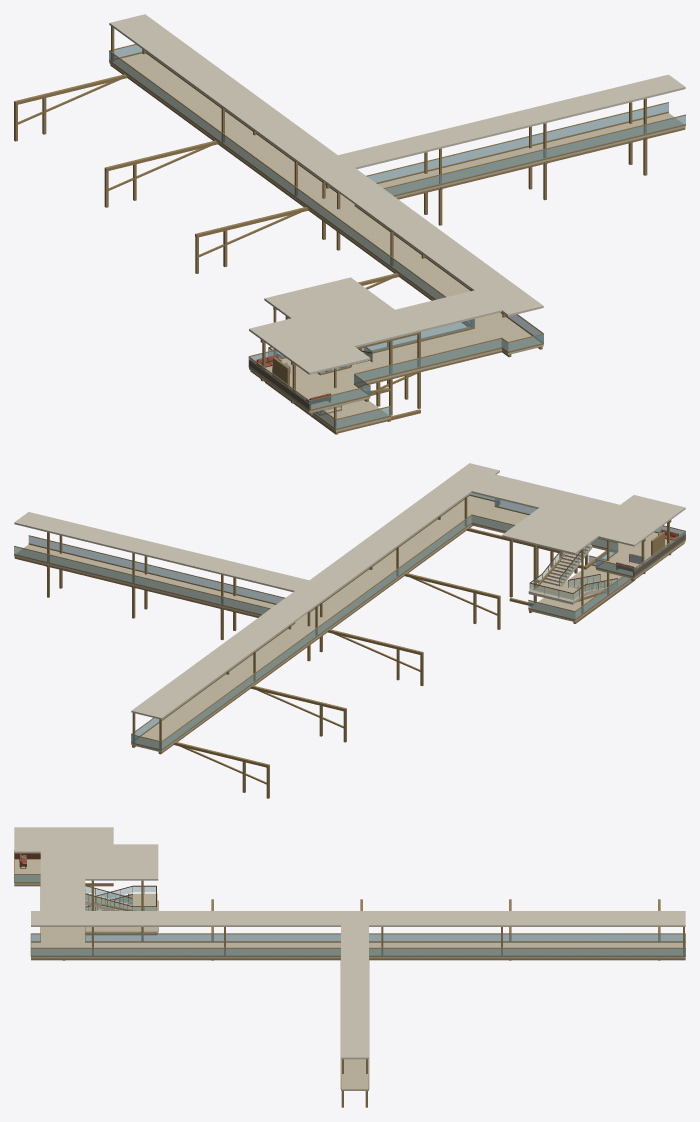
File: D04_PORT_FORWARD_RECEIVING_r001.glb
The picture shows the model from 3 angles, top to bottom: view 1: azimuth 30°, elevation 25°; view 2: azimuth 150°, elevation 25°; view 3: azimuth 270°, elevation 25°; orthographic projection. The views are drawn at different scales.
Visible parts, largest first — view 1: D04PF_ReceivedRoof, D04PF_ReceivedFloor, D04PF_UpperGuard_17, D04PF_UpperGuard_12, D04PF_UpperGuard_14, D04PF_UpperGuard_08, D04PF_StaffLowerLanding, D04PF_UpperGuard_17_Base, D04PF_UpperGuard_00, D04PF_PublicLong_-403.75, D04PF_StreetLong_-45.8, D04PF_UpperGuard_17_Cap (+1 smaller); view 2: D04PF_ReceivedRoof, D04PF_ReceivedFloor, D04PF_UpperGuard_17, D04PF_UpperGuard_14, D04PF_UpperGuard_12, D04PF_StaffLowerLanding, D04PF_Stair, D04PF_UpperGuard_17_Base, D04PF_StreetLong_-45.8, D04PF_UpperGuard_17_Cap, D04PF_PublicLong_-406.65; view 3: D04PF_ReceivedRoof, D04PF_ReceivedFloor, D04PF_UpperGuard_17, D04PF_UpperGuard_15, D04PF_UpperGuard_11, D04PF_StreetLong_-42.2, D04PF_UpperGuard_17_Base, D04PF_UpperGuard_17_Cap, D04PF_Stair, D04PF_UpperGuard_15_Cap, D04PF_UpperGuard_15_Base, D04PF_UpperGuard_11_Cap (+2 smaller).
Part boxes in pixels (box(x1,y1,x2,y2)): D04PF_ReceivedRoof: box(109, 14, 685, 374); D04PF_ReceivedFloor: box(109, 53, 685, 413); D04PF_UpperGuard_17: box(109, 51, 474, 326); D04PF_UpperGuard_12: box(384, 115, 685, 195); D04PF_UpperGuard_14: box(367, 103, 668, 182); D04PF_UpperGuard_08: box(354, 339, 501, 382); D04PF_StaffLowerLanding: box(313, 371, 390, 431); D04PF_UpperGuard_17_Base: box(109, 60, 473, 327); D04PF_UpperGuard_00: box(363, 319, 474, 351); D04PF_PublicLong_-403.75: box(397, 128, 685, 199); D04PF_StreetLong_-45.8: box(110, 64, 511, 357); D04PF_UpperGuard_17_Cap: box(109, 50, 446, 297); D04PF_ReceivedRoof: box(14, 463, 685, 719); D04PF_ReceivedFloor: box(14, 496, 685, 752); D04PF_UpperGuard_17: box(161, 515, 471, 749); D04PF_UpperGuard_14: box(14, 546, 269, 614); D04PF_UpperGuard_12: box(28, 536, 284, 603); D04PF_StaffLowerLanding: box(528, 565, 631, 621); D04PF_Stair: box(542, 542, 617, 597); D04PF_UpperGuard_17_Base: box(161, 522, 471, 750); D04PF_StreetLong_-45.8: box(158, 525, 472, 754); D04PF_UpperGuard_17_Cap: box(161, 514, 471, 741); D04PF_PublicLong_-406.65: box(14, 557, 259, 617); D04PF_ReceivedRoof: box(14, 827, 685, 1059); D04PF_ReceivedFloor: box(14, 859, 685, 1090); D04PF_UpperGuard_17: box(85, 934, 685, 941); D04PF_UpperGuard_15: box(369, 948, 685, 955); D04PF_UpperGuard_11: box(31, 948, 340, 955); D04PF_StreetLong_-42.2: box(31, 958, 685, 960); D04PF_UpperGuard_17_Base: box(85, 941, 685, 942); D04PF_UpperGuard_17_Cap: box(85, 933, 685, 934); D04PF_Stair: box(85, 885, 132, 910); D04PF_UpperGuard_15_Cap: box(369, 947, 685, 948); D04PF_UpperGuard_15_Base: box(369, 955, 685, 956); D04PF_UpperGuard_11_Cap: box(31, 947, 340, 948).
Bounding box in the file's own units: 66.04 × 9.22 × 81.28.
Materials: 28 (25 with a texture image).
